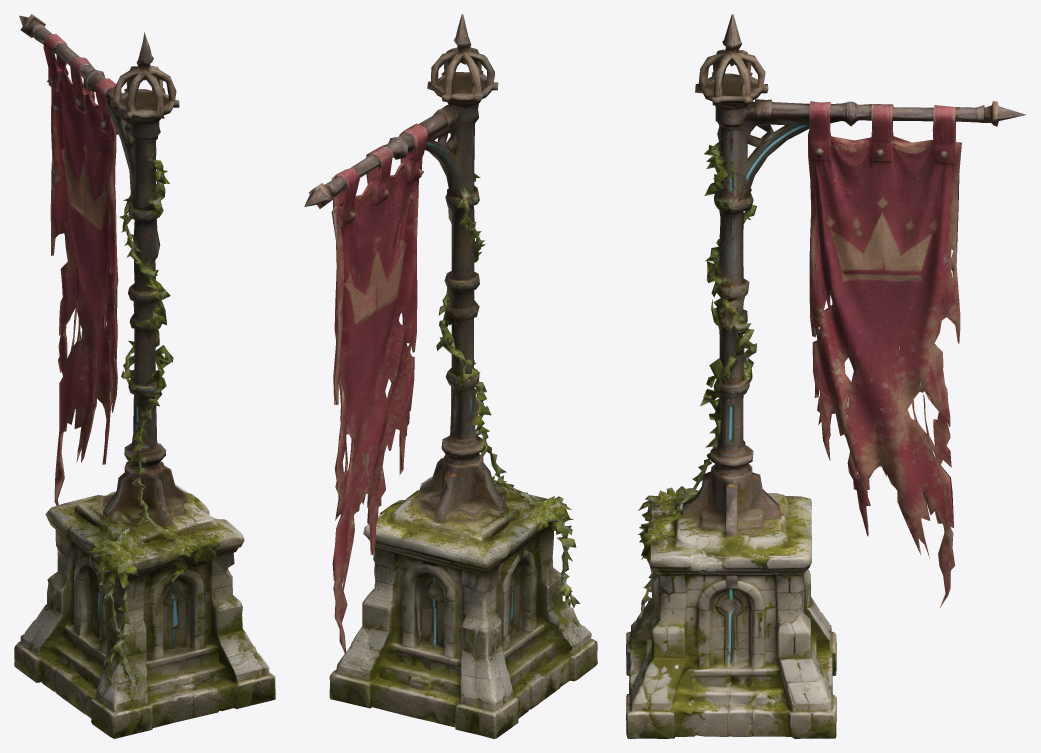
File: env_banner.glb
3 views of the same model, side by side, from view 1: azimuth 30°, elevation 25°; view 2: azimuth 150°, elevation 25°; view 3: azimuth 270°, elevation 25° (orthographic). The views are drawn at different scales.
Parts seen in each view (by area): view 1: tripo_node_c0344e26-a23a-4067-877a-66caa5ff02de; view 2: tripo_node_c0344e26-a23a-4067-877a-66caa5ff02de; view 3: tripo_node_c0344e26-a23a-4067-877a-66caa5ff02de.
Boxes of the visible parts, bbox=[...] form: tripo_node_c0344e26-a23a-4067-877a-66caa5ff02de: bbox=[14, 14, 275, 738]; tripo_node_c0344e26-a23a-4067-877a-66caa5ff02de: bbox=[304, 14, 597, 738]; tripo_node_c0344e26-a23a-4067-877a-66caa5ff02de: bbox=[626, 14, 1026, 738].
Bounding box in the file's own units: 0.2642 × 1 × 0.5312.
1 material, 1 textured.
